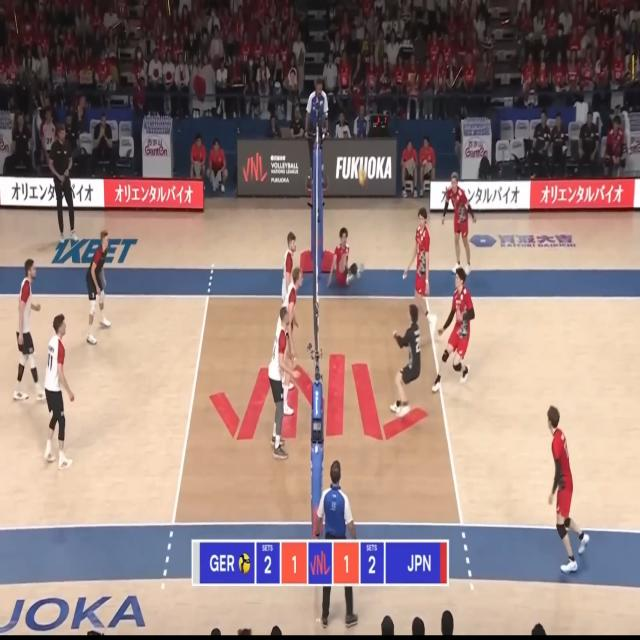ball: (359, 168, 366, 186)
